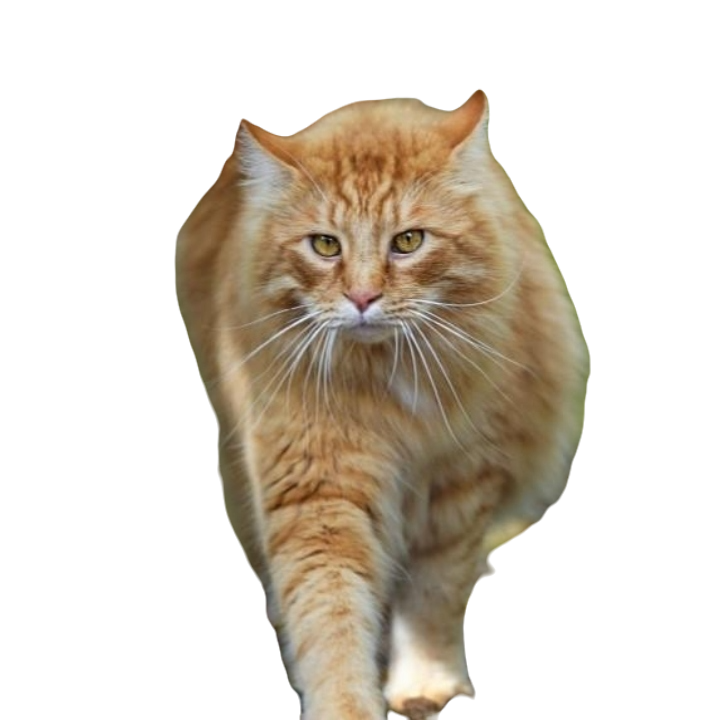Cat: (159, 75, 599, 719)
